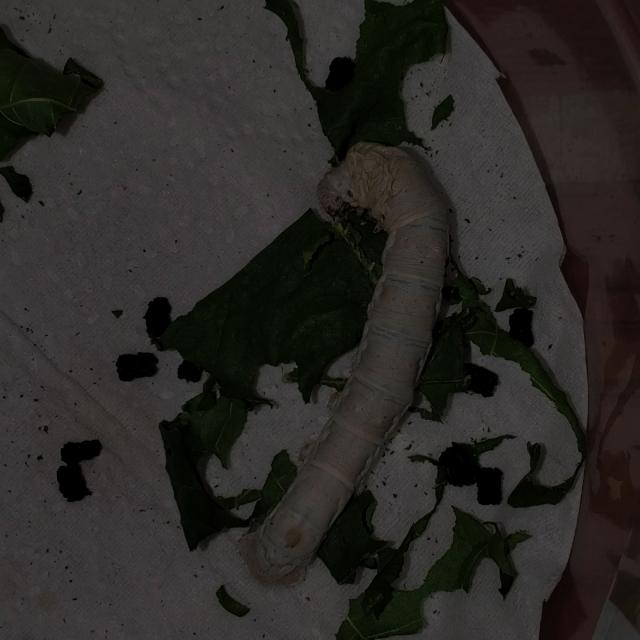Healthy: (237, 128, 461, 594)
